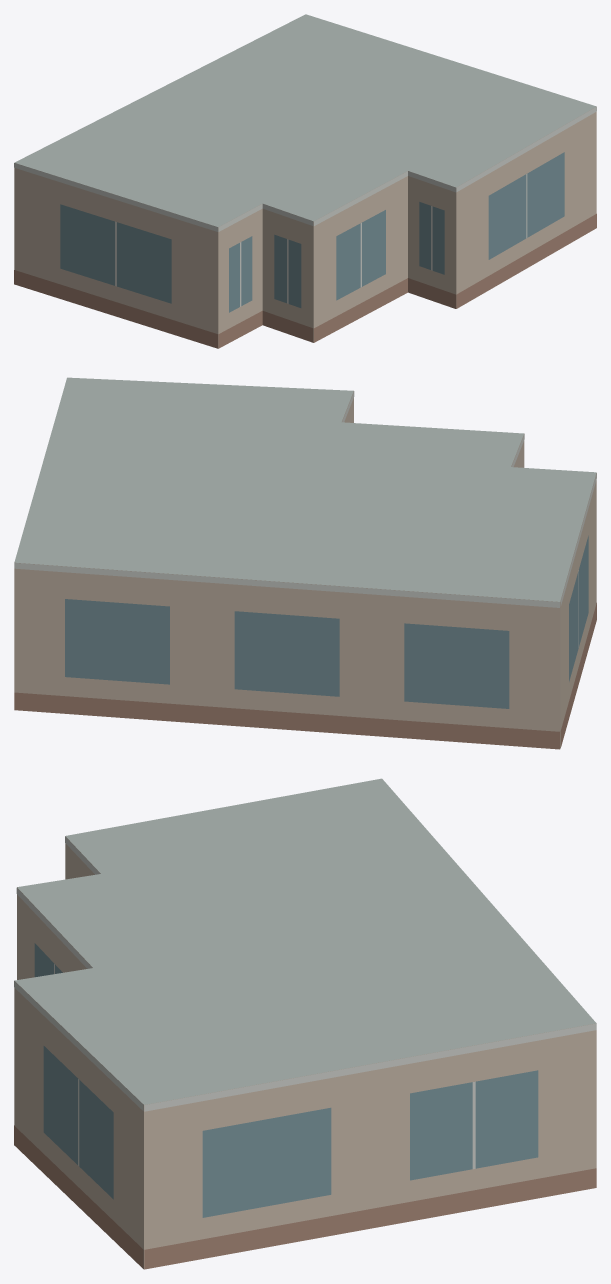
The model's file is survey-upis-32899046.glb.
The picture shows the model from 3 angles, top to bottom: view 1: azimuth 30°, elevation 25°; view 2: azimuth 150°, elevation 25°; view 3: azimuth 270°, elevation 25°; orthographic projection. The views are drawn at different scales.
Parts seen in each view (by area): view 1: survey-upis-32899046.tmp; view 2: survey-upis-32899046.tmp; view 3: survey-upis-32899046.tmp.
Boxes of the visible parts, x1,y1,x2,y2 form: survey-upis-32899046.tmp: [14, 14, 596, 348]; survey-upis-32899046.tmp: [14, 377, 596, 749]; survey-upis-32899046.tmp: [14, 778, 596, 1269].
Bounding box in the file's own units: 13 × 3.05 × 9.8.
